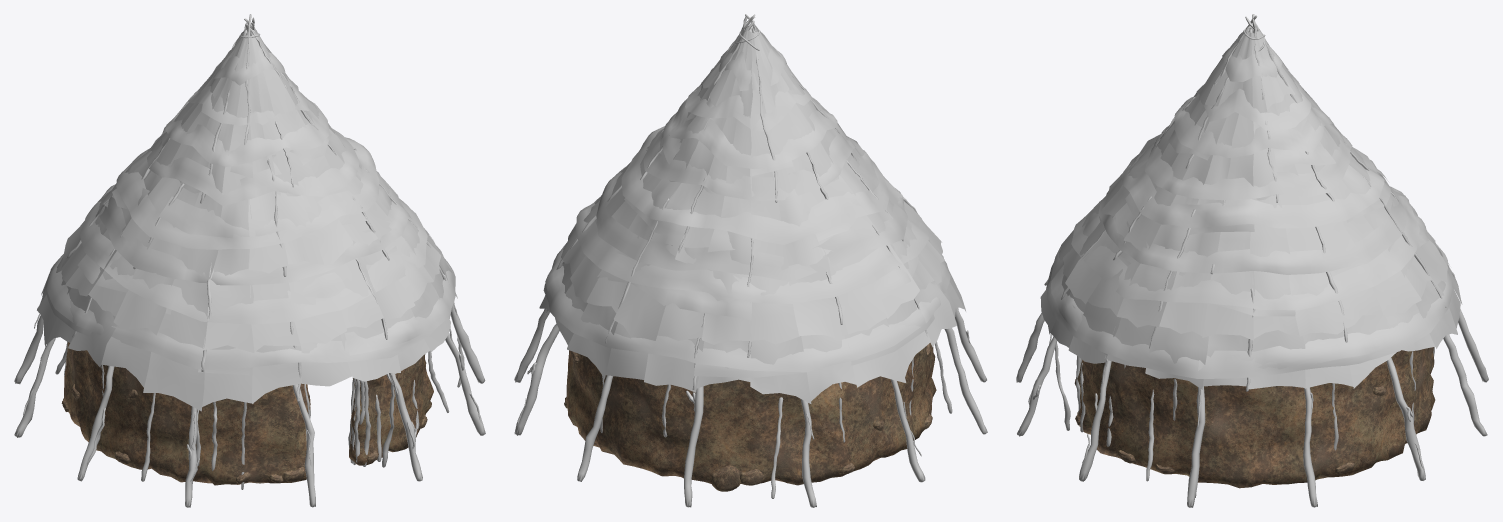
The model's file is highpoly_african_hut_001.obj.
The picture shows the model from 3 angles, left to right: view 1: azimuth 30°, elevation 25°; view 2: azimuth 150°, elevation 25°; view 3: azimuth 270°, elevation 25°; orthographic projection.
Parts seen in each view (by area): view 1: highpoly_african_hut_001; view 2: highpoly_african_hut_001; view 3: highpoly_african_hut_001.
Boxes of the visible parts, x1,y1,x2,y2 form: highpoly_african_hut_001: (14, 14, 485, 507); highpoly_african_hut_001: (514, 14, 987, 507); highpoly_african_hut_001: (1016, 14, 1488, 507).
Bounding box in the file's own units: 4.5 × 4.22 × 4.49.
